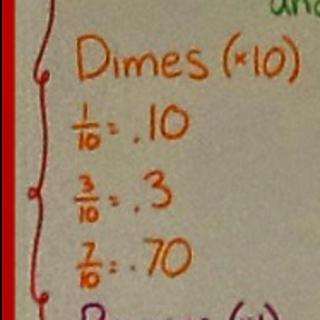.: (129, 130, 146, 149), (130, 201, 142, 218), (128, 260, 138, 275)
0: (160, 235, 196, 279), (158, 101, 191, 148)
1: (149, 100, 158, 148)
3: (141, 167, 175, 211)
7: (137, 234, 163, 279)
